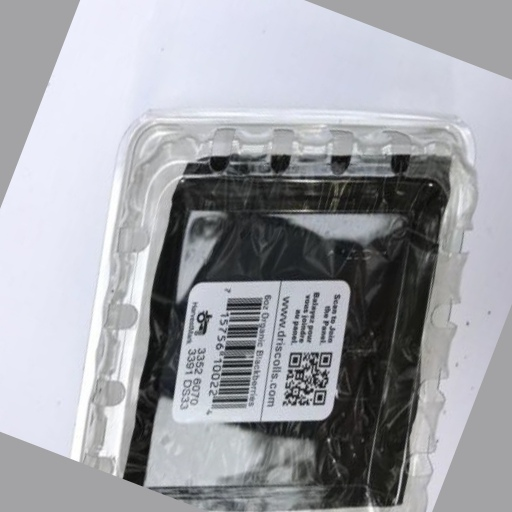Plastic_4: (75, 107, 477, 512)
